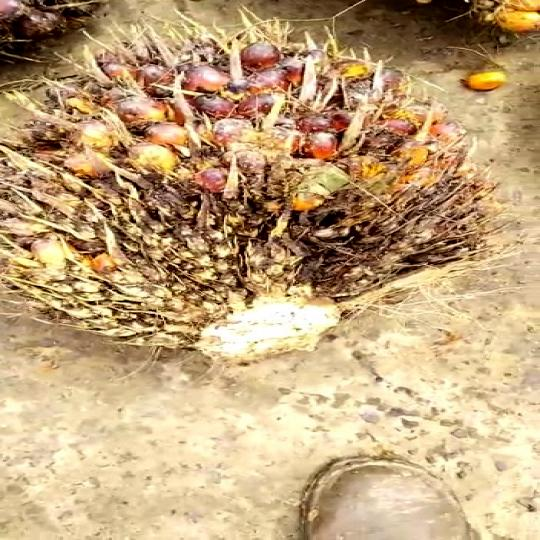masak: (1, 16, 493, 366)
